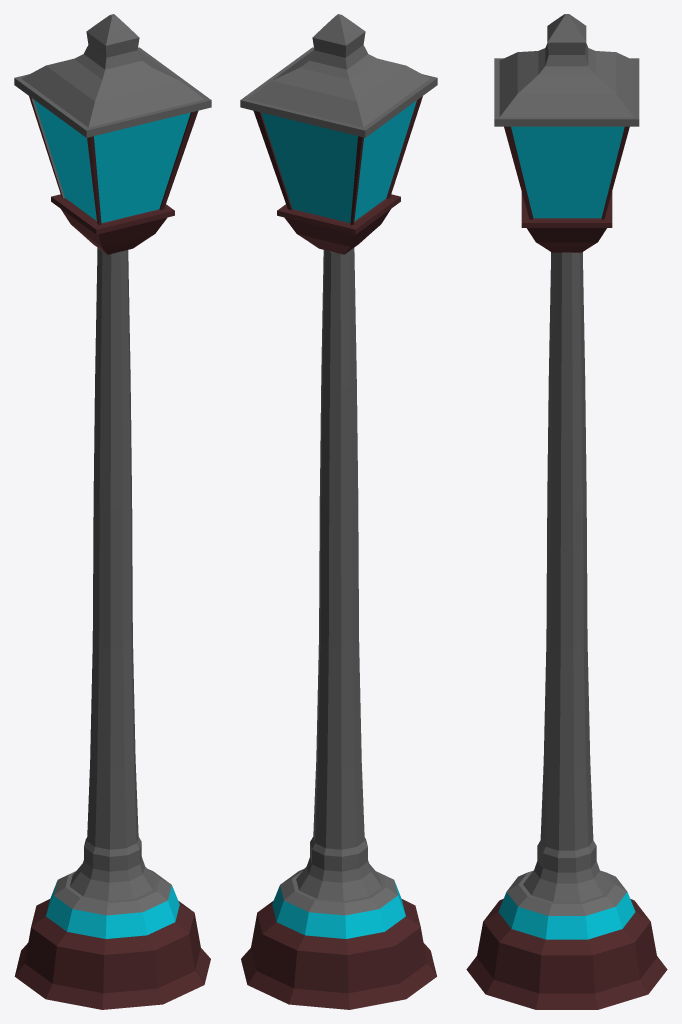
The model's file is Lantaarn.fbx.
3 views of the same model, side by side, from view 1: azimuth 30°, elevation 25°; view 2: azimuth 150°, elevation 25°; view 3: azimuth 270°, elevation 25° (orthographic).
Visible parts, largest first — view 1: Cylinder; view 2: Cylinder; view 3: Cylinder.
Boxes of the visible parts, box(x1,y1,x2,y2) form: Cylinder: box(14, 14, 211, 1009); Cylinder: box(240, 14, 437, 1009); Cylinder: box(466, 14, 667, 1009).
Size of the model in its own units: 2 by 11.01 by 2.1.
